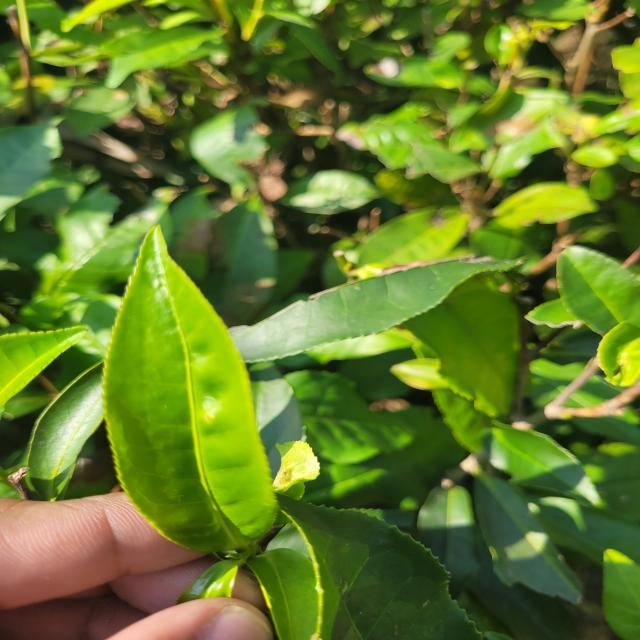Catagory A(1-2 days): (84, 210, 284, 560)
